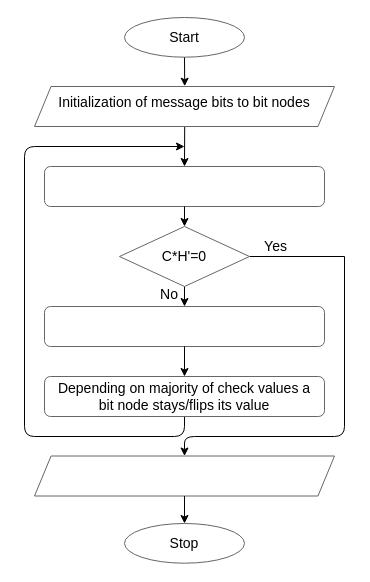
Some shapes in this 370 by 582 pixel diagram are drawn without their labels. The centre of each missing label's shape, as x and y in pixels:
Check nodes calculates check for each bit node: the point at 184,326
Output the decoded message: the point at 184,475
Passing message bits from bit nodes to check nodes: the point at 184,186
